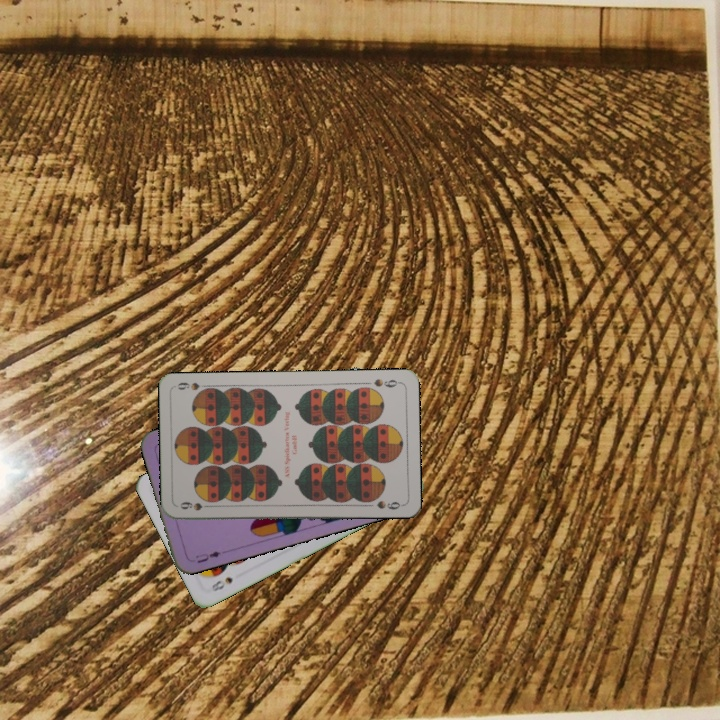EU: (191, 547, 223, 566)
S8: (208, 573, 235, 594)
S9: (176, 498, 216, 513), (370, 375, 402, 390)
